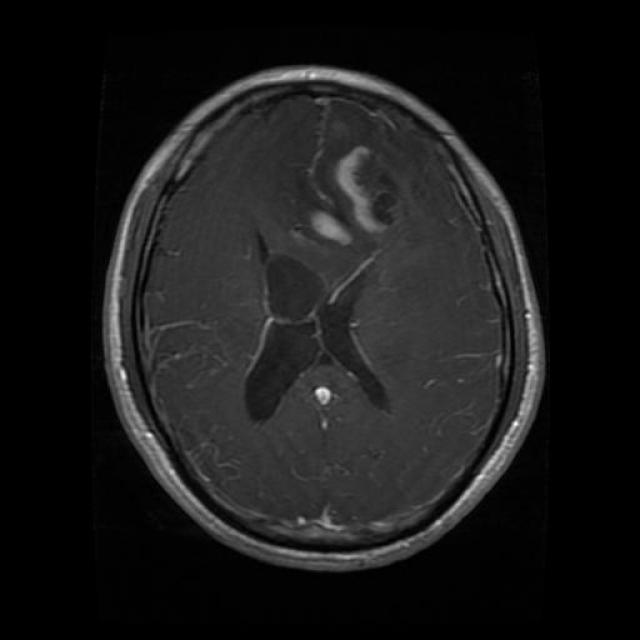Brain-Tumor: (249, 72, 425, 263)
